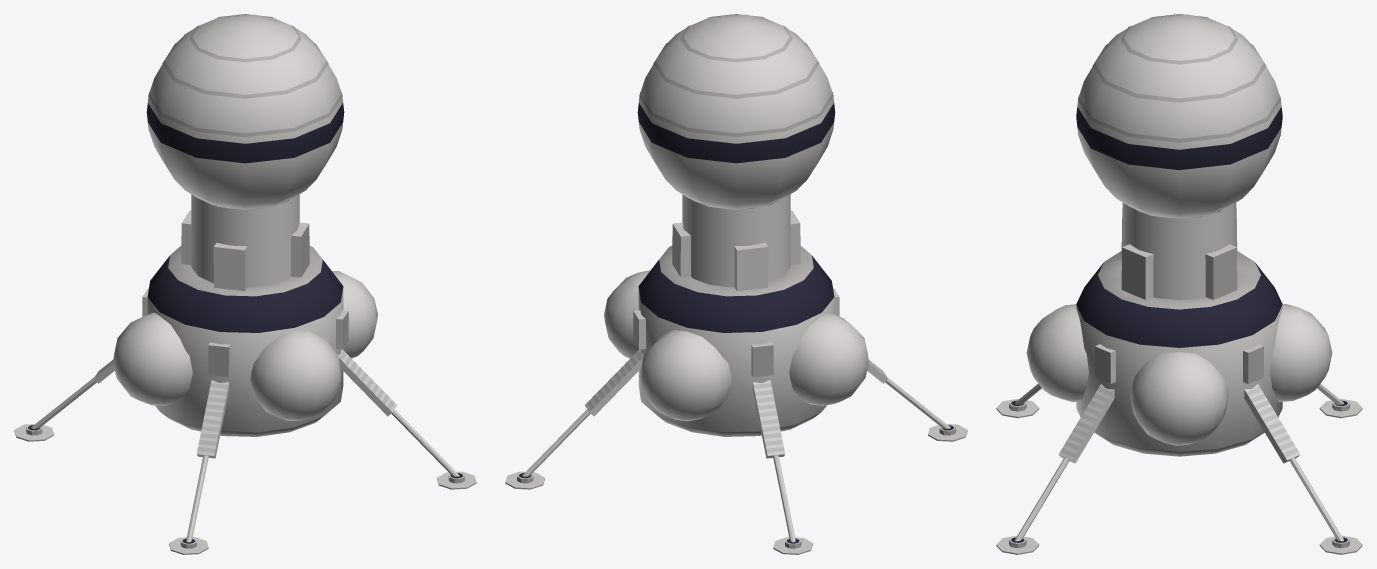
File: module2.fbx
The picture shows the model from 3 angles, left to right: view 1: azimuth 30°, elevation 25°; view 2: azimuth 150°, elevation 25°; view 3: azimuth 270°, elevation 25°; orthographic projection. The views are drawn at different scales.
Visible parts, largest first — view 1: module2; view 2: module2; view 3: module2.
Part boxes in pixels (x1,y1,x2,y2): module2: (14,14,476,554); module2: (505,14,967,554); module2: (996,14,1362,554).
Bounding box in the file's own units: 6.57 × 9 × 6.57.
